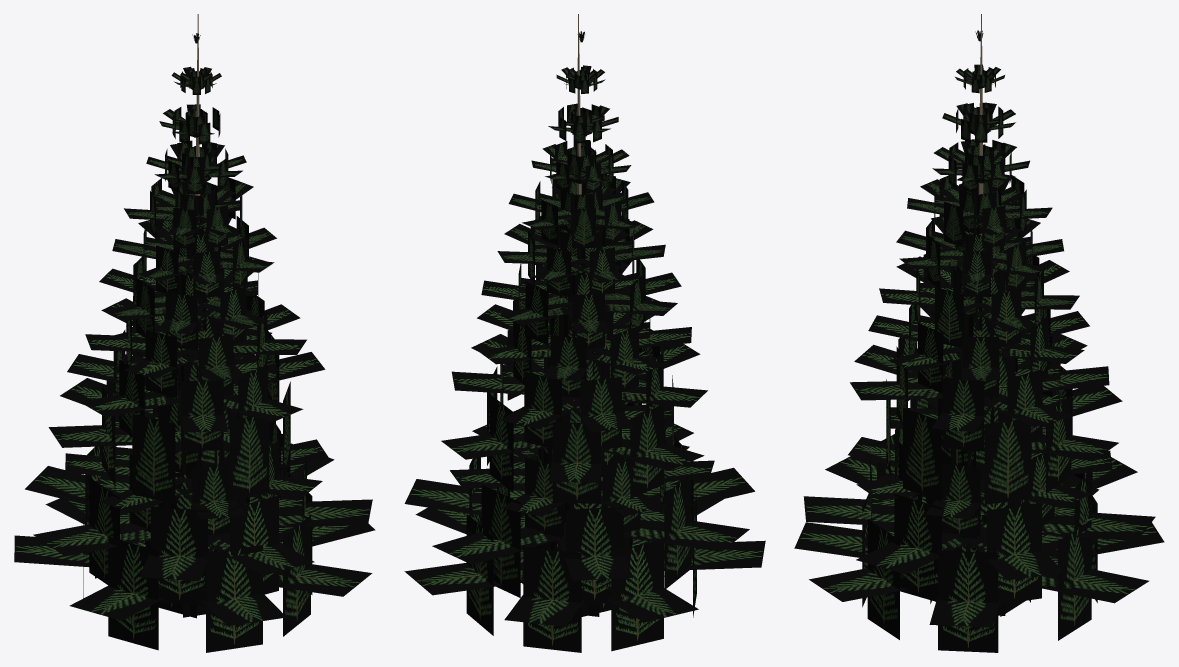
Rendered from Fir_0_LOD1.glb.
The picture shows the model from 3 angles, left to right: view 1: azimuth 30°, elevation 25°; view 2: azimuth 150°, elevation 25°; view 3: azimuth 270°, elevation 25°; orthographic projection.
Visible parts, largest first — view 1: Fir_0_LOD1; view 2: Fir_0_LOD1; view 3: Fir_0_LOD1.
Part boxes in pixels (x1,y1,x2,y2): Fir_0_LOD1: [14, 14, 375, 652]; Fir_0_LOD1: [404, 14, 765, 652]; Fir_0_LOD1: [794, 14, 1164, 652].
Bounding box in the file's own units: 13.47 × 24.18 × 13.74.
Materials: 2 (1 with a texture image).
